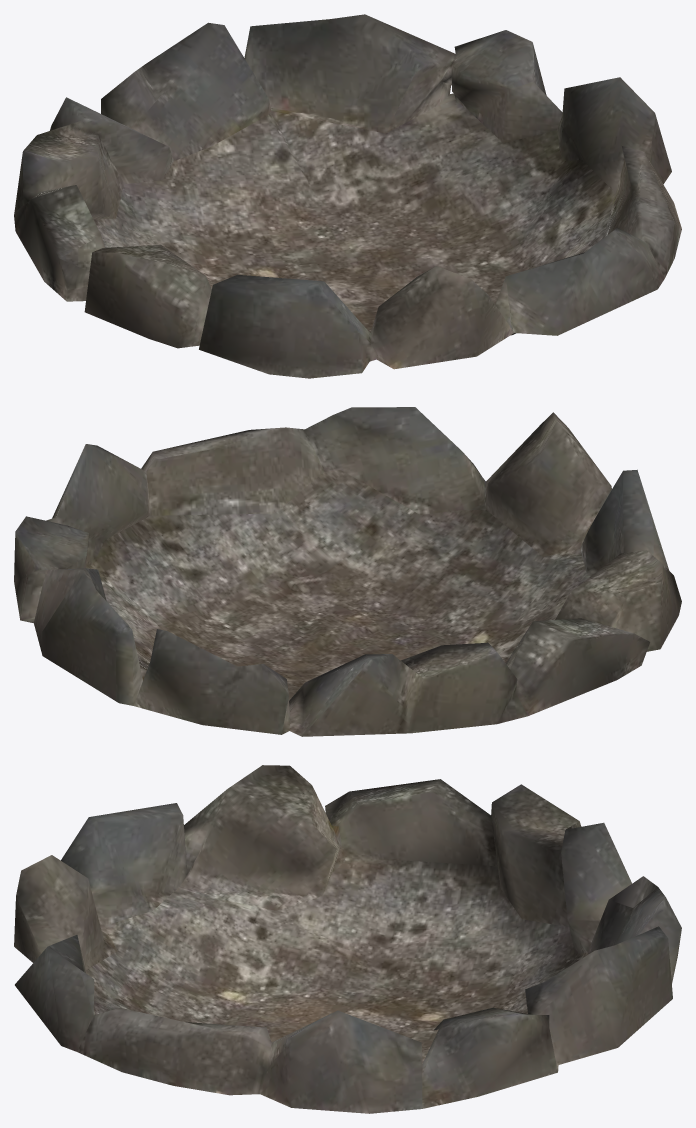
The model's file is p_firepit.glb.
The picture shows the model from 3 angles, top to bottom: view 1: azimuth 30°, elevation 25°; view 2: azimuth 150°, elevation 25°; view 3: azimuth 270°, elevation 25°; orthographic projection.
Visible parts, largest first — view 1: stone_fire_pit; view 2: stone_fire_pit; view 3: stone_fire_pit.
Boxes of the visible parts, x1,y1,x2,y2 form: stone_fire_pit: [14, 14, 681, 378]; stone_fire_pit: [14, 407, 681, 736]; stone_fire_pit: [14, 765, 681, 1113].
Size of the model in its own units: 1.44 by 0.376 by 1.43.
Materials: 1 (1 with a texture image).
